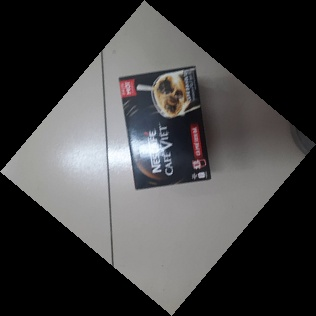CF Viet: (117, 65, 214, 191)
